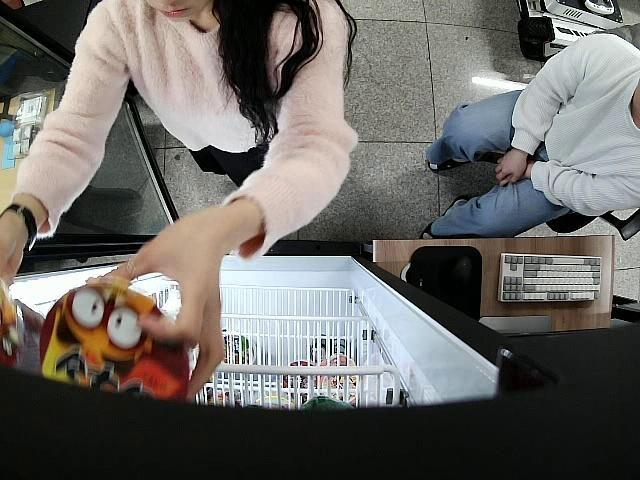05_nuguri_L: (37, 283, 190, 402)
